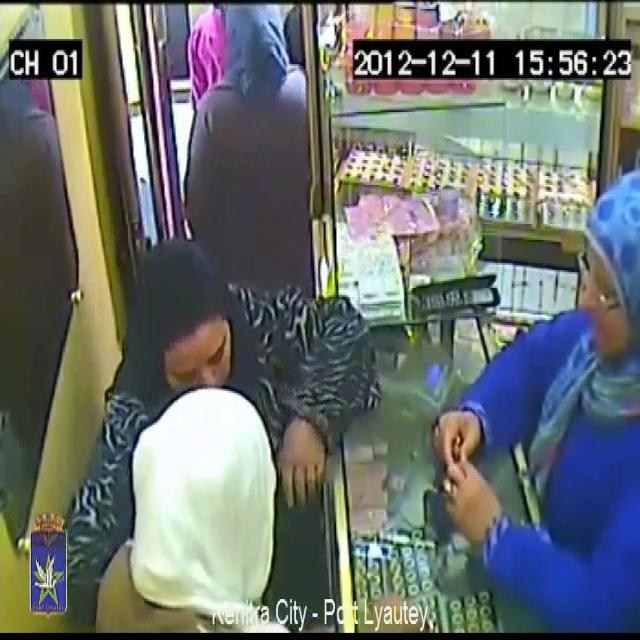Product: (438, 431, 464, 487)
normal: (105, 364, 323, 640), (146, 202, 250, 380), (195, 0, 295, 175)
shoplifting: (382, 144, 640, 627)
